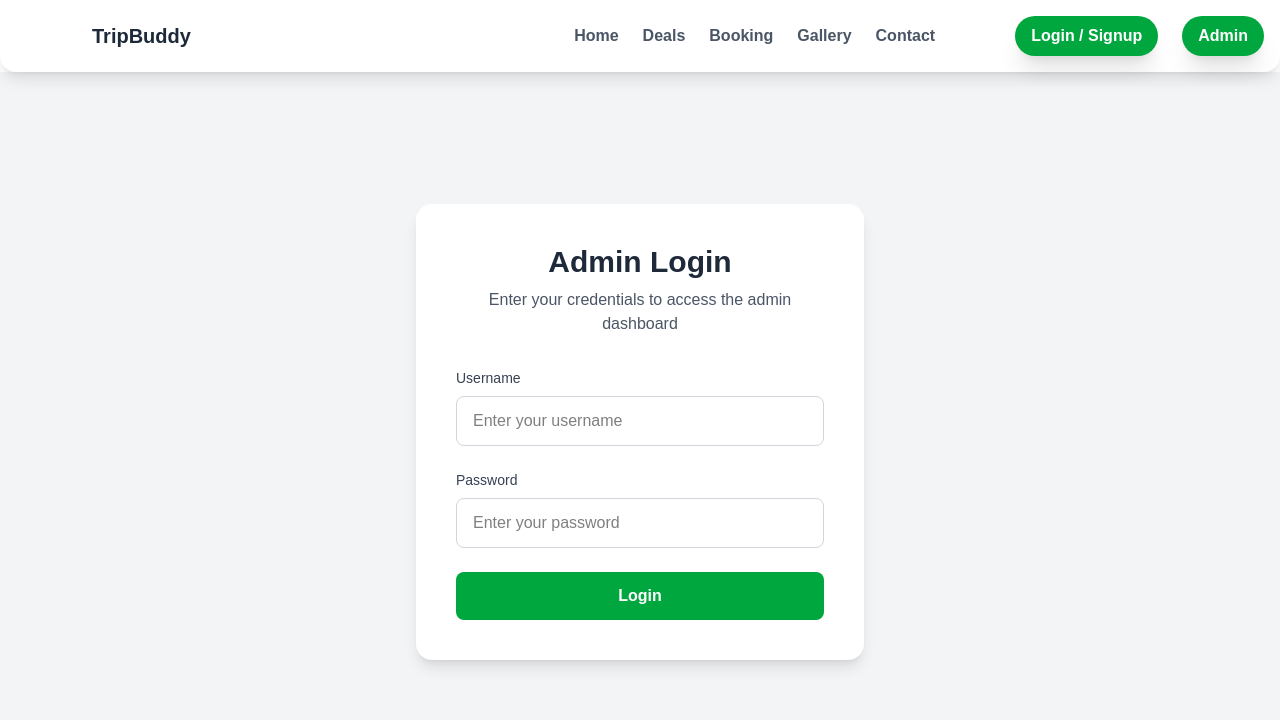
Scenario: TC-09: Admin Login › TC-09: Should login as admin and reach dashboard
Type "admin" into the field with id "username" at (640, 421), box left=456, top=396, right=824, bottom=446
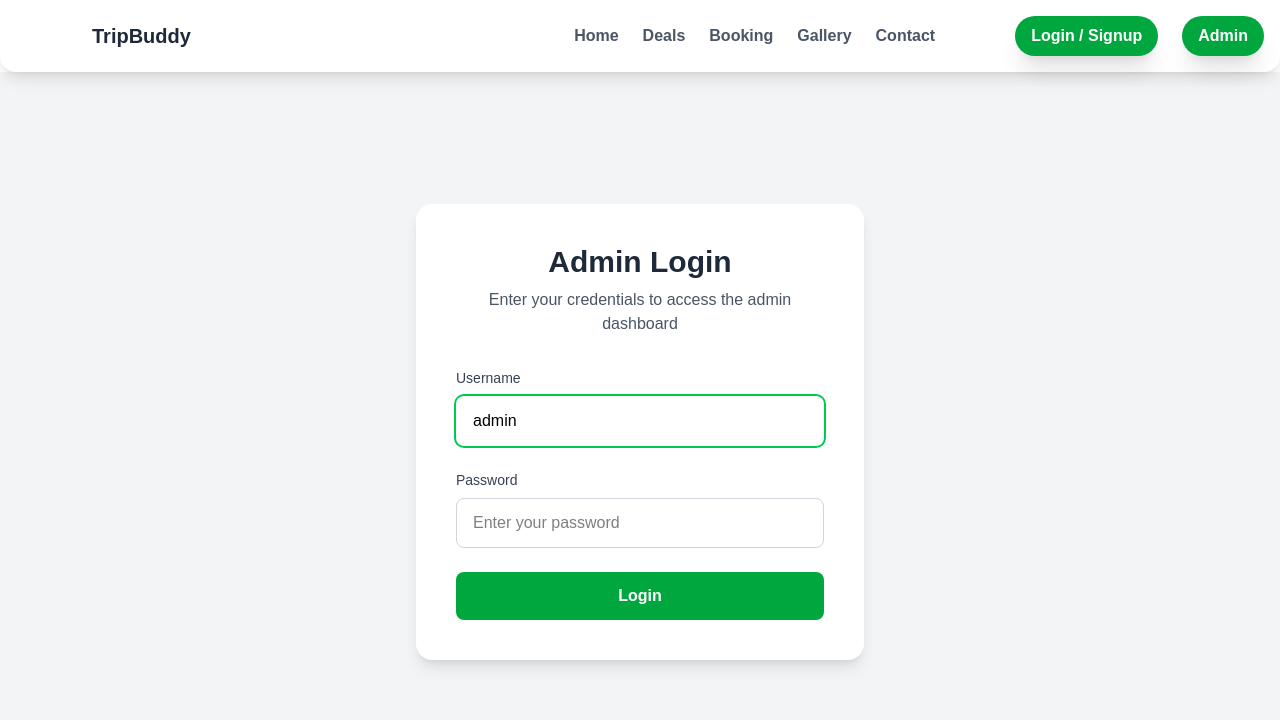
Type "123" into the password field with placeholder "Enter your password" at (640, 523), box left=456, top=498, right=824, bottom=548
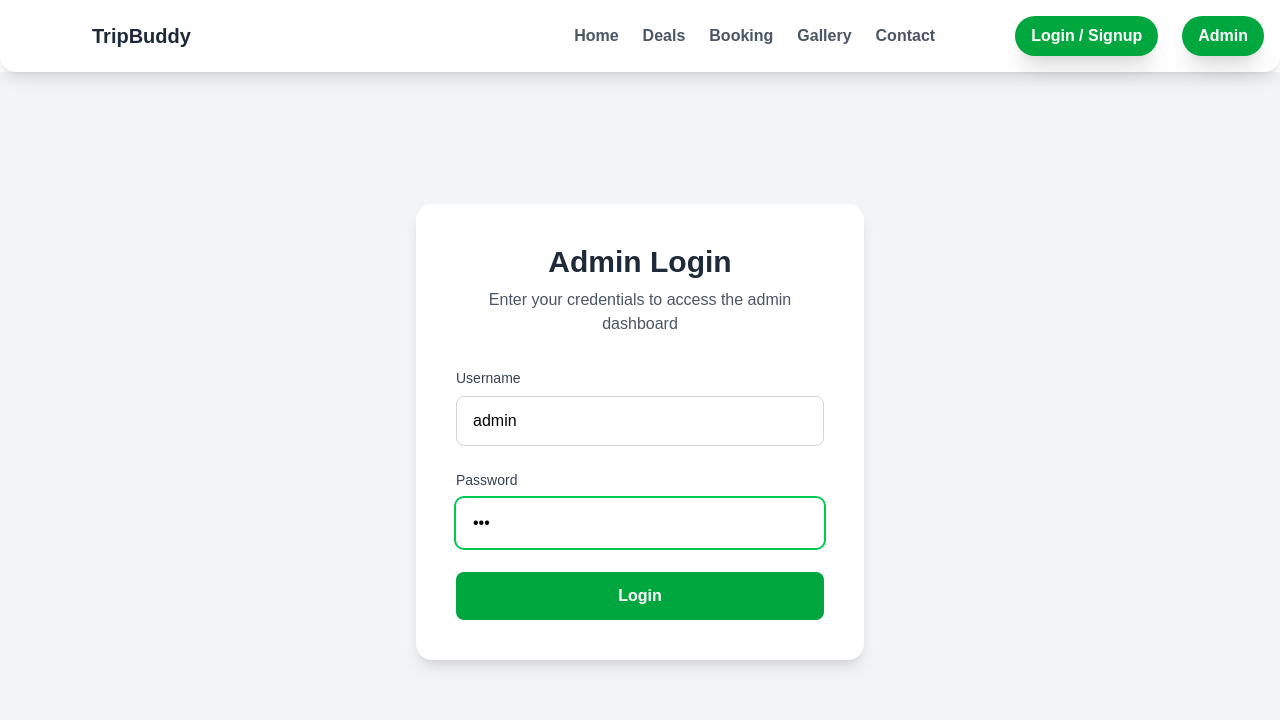
Click the submit button at (640, 596), box left=456, top=572, right=824, bottom=620
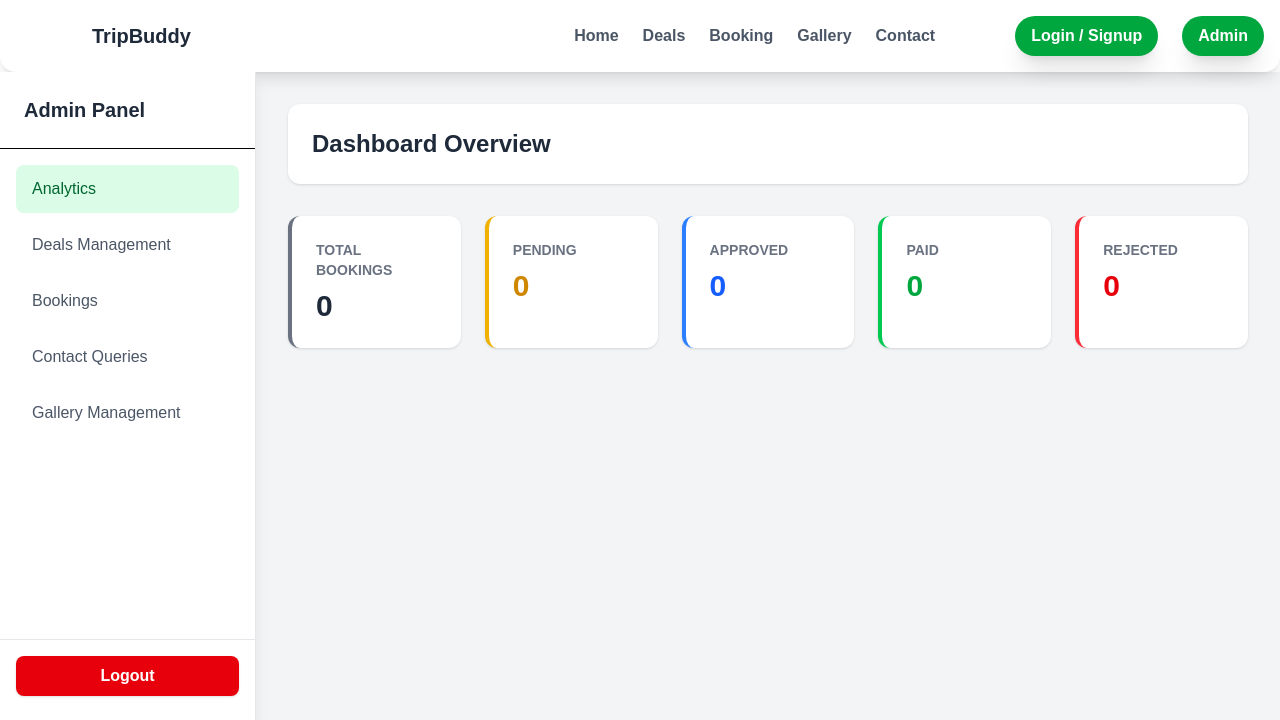
Now the text "Admin Panel" is shown, box left=24, top=96, right=145, bottom=124
Now the button "Bookings" is shown, box left=16, top=277, right=239, bottom=325
Now the button "Deals Management" is shown, box left=16, top=221, right=239, bottom=269
